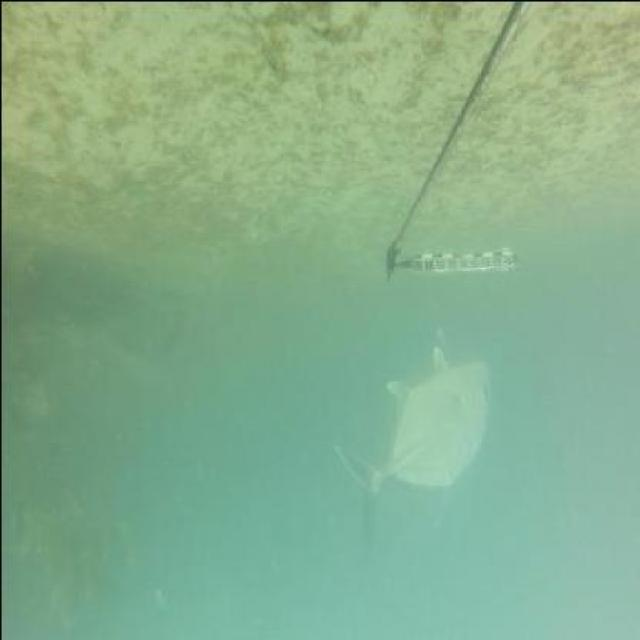Caranx: (330, 337, 492, 563)
